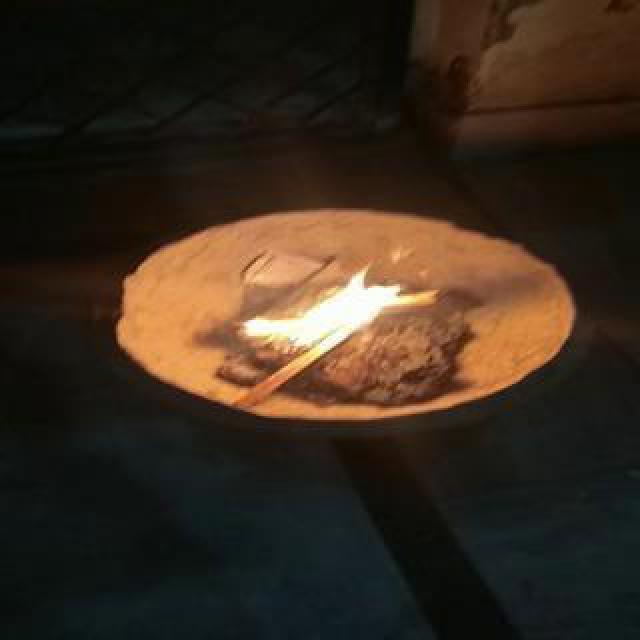Fire: (224, 250, 424, 366)
